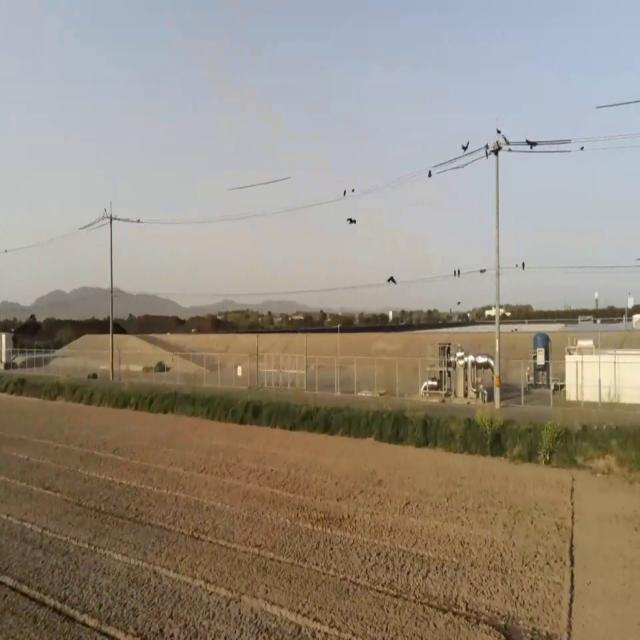bird: (386, 268, 397, 290), (347, 210, 356, 230), (526, 134, 536, 152), (462, 135, 468, 157), (485, 138, 489, 160), (455, 265, 459, 279), (343, 186, 347, 199), (428, 165, 431, 182), (581, 140, 584, 154)
